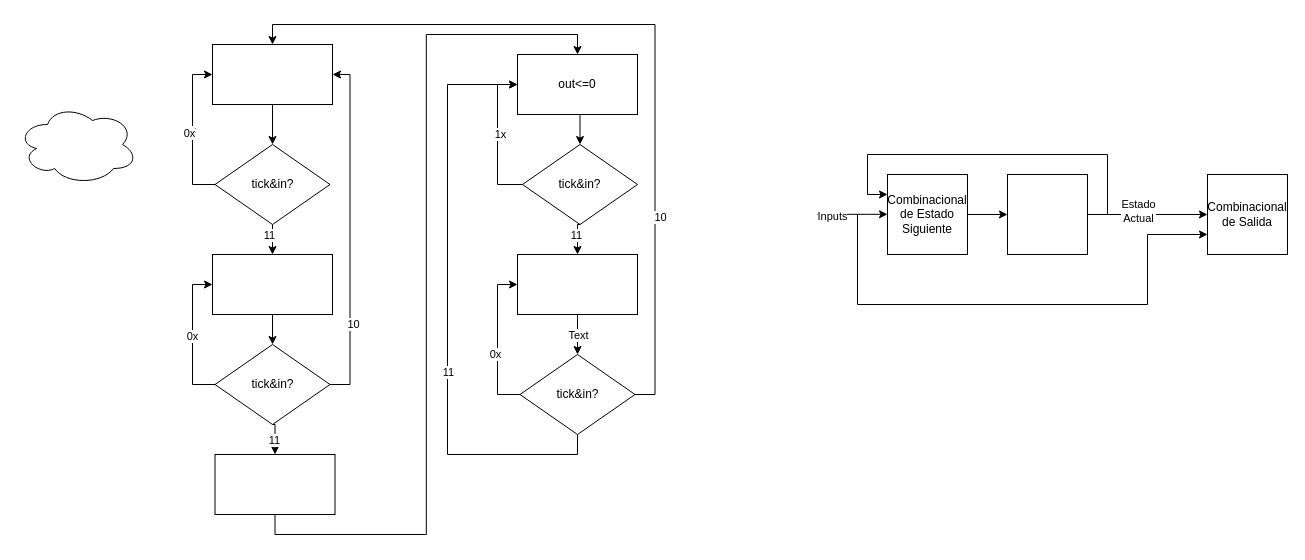
The diagram is 1305 pixels wide and 560 high, and some of its shapes have lost their labels. Here are the shapes that lost their labels. From the top down, the centre of each, then its label:
At (x=272, y=74): "out <= 0".
At (x=77, y=144): "tick == divisorDeFrecuencia".
At (x=1047, y=214): "Memoria".
At (x=274, y=484): "out <= 1".
